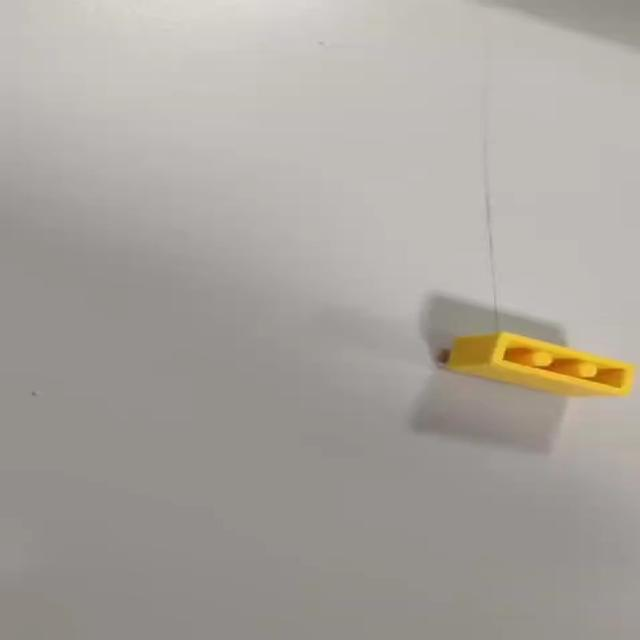C3x1x1: (439, 326, 640, 403)
